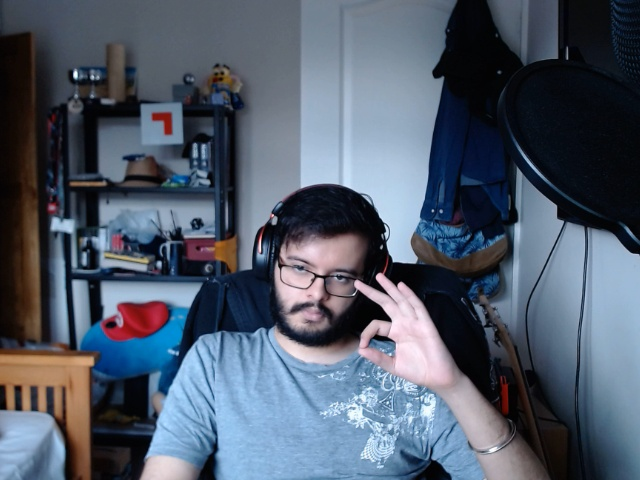Okay: (349, 268, 468, 401)
